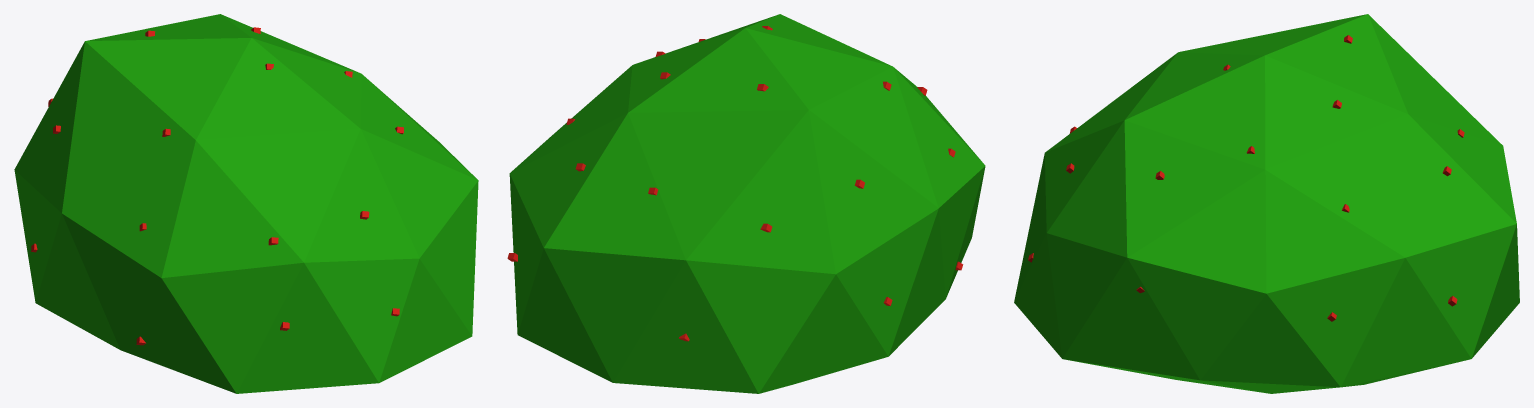
The model's file is Bush_3.fbx.
The picture shows the model from 3 angles, left to right: view 1: azimuth 30°, elevation 25°; view 2: azimuth 150°, elevation 25°; view 3: azimuth 270°, elevation 25°; orthographic projection. The views are drawn at different scales.
Visible parts, largest first — view 1: Bush3_mesh; view 2: Bush3_mesh; view 3: Bush3_mesh.
Boxes of the visible parts, left/top/right/bottom form: Bush3_mesh: left=14, top=14, right=478, bottom=393; Bush3_mesh: left=507, top=14, right=985, bottom=393; Bush3_mesh: left=1014, top=14, right=1519, bottom=393.
Size of the model in its own units: 203 by 151 by 239.
